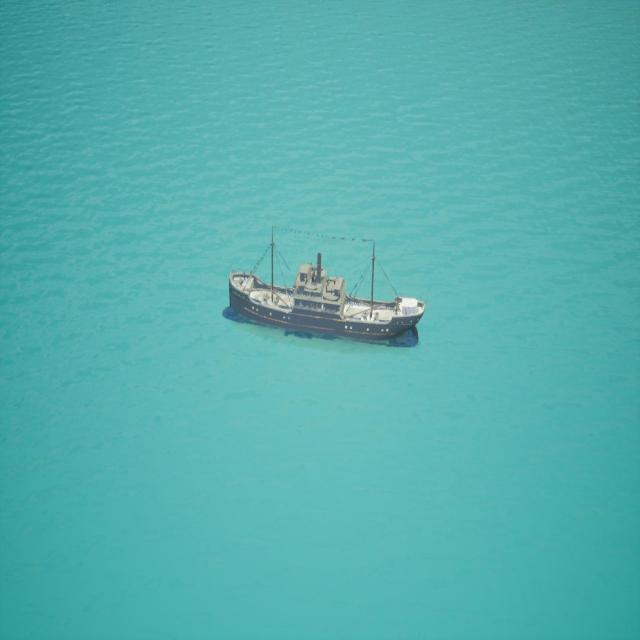fishing ship: (226, 231, 427, 346)
